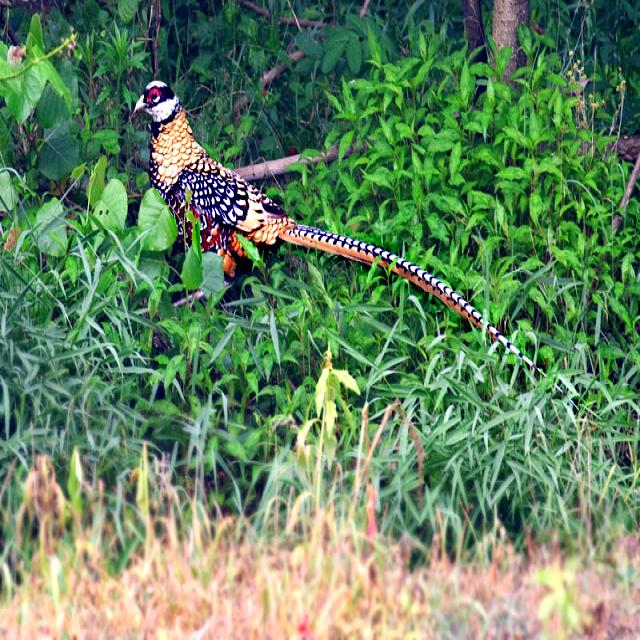Reeves-s Pheasant: (281, 220, 559, 388)
